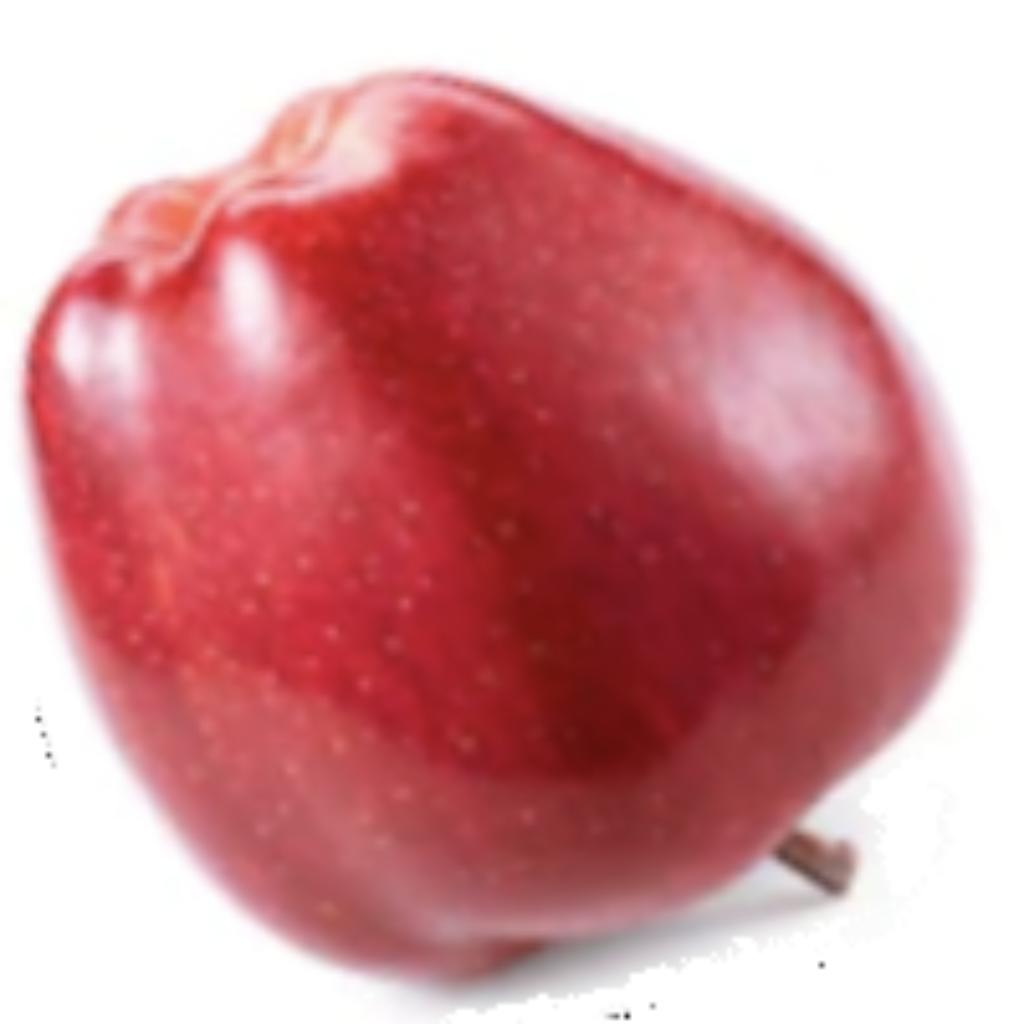apple: (5, 51, 988, 1019)
